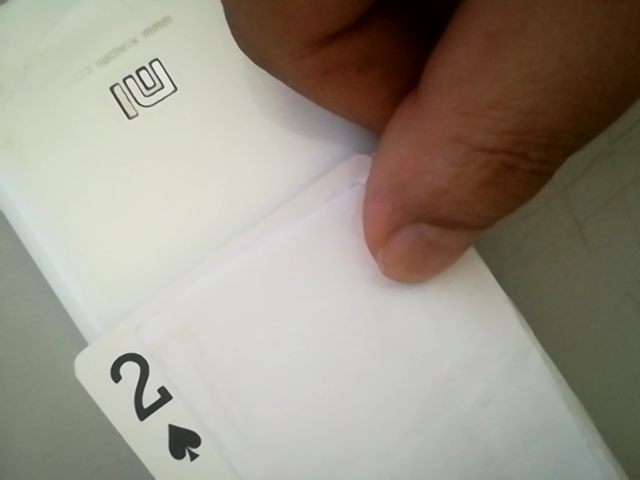ht 2: (94, 333, 220, 480)
